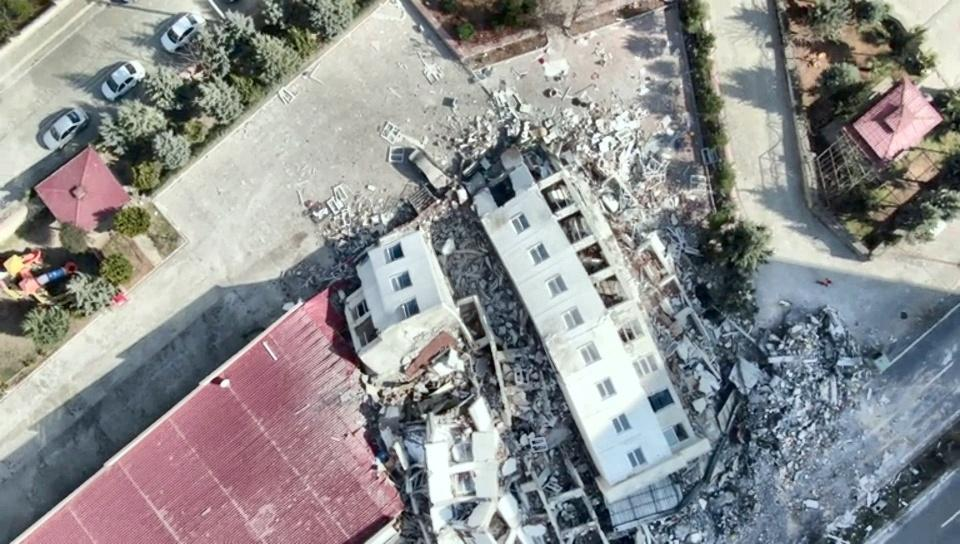kapali: (684, 350, 958, 543)
